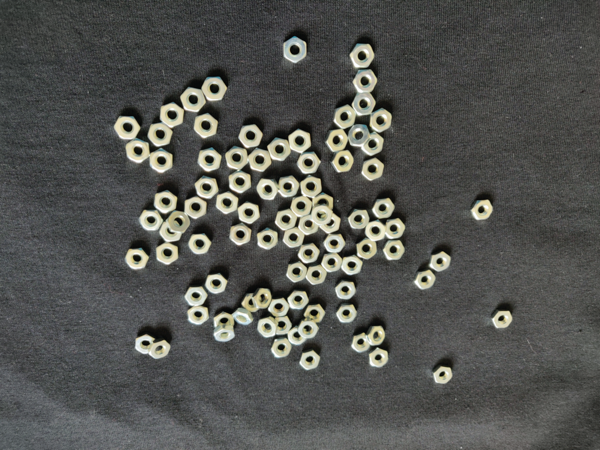nut: (114, 116, 142, 140), (147, 123, 174, 147), (284, 36, 307, 64), (202, 76, 227, 101), (181, 87, 206, 112), (350, 44, 376, 68), (126, 138, 150, 163), (154, 190, 178, 215), (161, 102, 184, 128), (194, 114, 218, 138), (239, 124, 263, 148), (268, 137, 292, 161), (198, 148, 222, 172), (150, 148, 173, 173), (166, 211, 191, 234), (352, 93, 376, 116), (334, 105, 357, 129), (289, 129, 312, 153), (325, 129, 349, 152), (361, 158, 385, 181), (249, 148, 272, 172), (226, 146, 249, 170), (195, 176, 219, 199), (353, 70, 378, 92), (362, 132, 384, 157), (370, 109, 393, 132), (348, 125, 371, 148), (331, 150, 354, 173), (229, 171, 252, 194), (216, 192, 239, 215), (125, 249, 150, 270), (301, 175, 323, 198), (185, 197, 207, 220), (238, 202, 261, 224), (283, 227, 306, 249), (229, 223, 252, 245), (156, 243, 179, 265), (297, 153, 321, 174), (139, 211, 164, 231), (160, 221, 182, 243), (275, 209, 297, 231), (471, 200, 494, 221), (257, 179, 280, 200), (188, 234, 212, 254), (184, 286, 208, 306), (373, 198, 395, 219), (279, 176, 300, 198), (313, 193, 334, 215), (291, 196, 312, 218), (320, 212, 341, 234), (298, 214, 320, 235), (258, 228, 279, 250), (365, 220, 387, 241), (356, 238, 377, 260), (341, 255, 363, 276), (286, 262, 308, 283), (206, 274, 228, 295), (149, 339, 171, 360), (383, 240, 406, 260), (298, 244, 321, 264), (297, 319, 320, 339), (312, 204, 333, 225), (258, 317, 279, 338), (429, 252, 451, 272), (414, 270, 436, 290), (306, 265, 328, 285), (322, 253, 343, 273), (300, 351, 321, 371), (348, 210, 370, 229), (324, 234, 346, 253), (335, 281, 357, 300), (188, 306, 210, 325), (304, 304, 326, 323), (268, 298, 290, 317), (386, 219, 406, 239), (366, 326, 386, 346), (252, 289, 272, 309), (242, 293, 262, 313), (492, 310, 513, 329), (288, 291, 309, 310), (271, 339, 292, 358), (336, 305, 358, 323), (232, 308, 255, 325), (369, 349, 389, 368), (135, 335, 155, 354), (352, 334, 371, 353), (274, 316, 293, 335), (288, 327, 308, 345), (214, 312, 235, 329), (214, 325, 235, 342), (433, 367, 453, 384)
